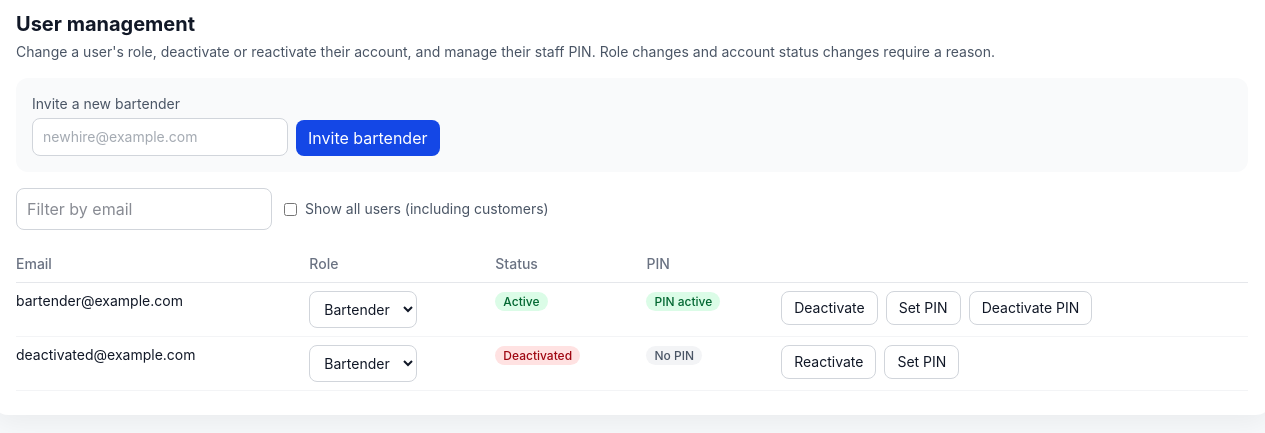
it: AdminUsers › filters the visible rows by email
Expected: the text "bartender@example.com" is shown, [16,282,309,336]
In the field with placeholder "Filter by email": (144, 209) [16,188,272,230], type "deactivated"
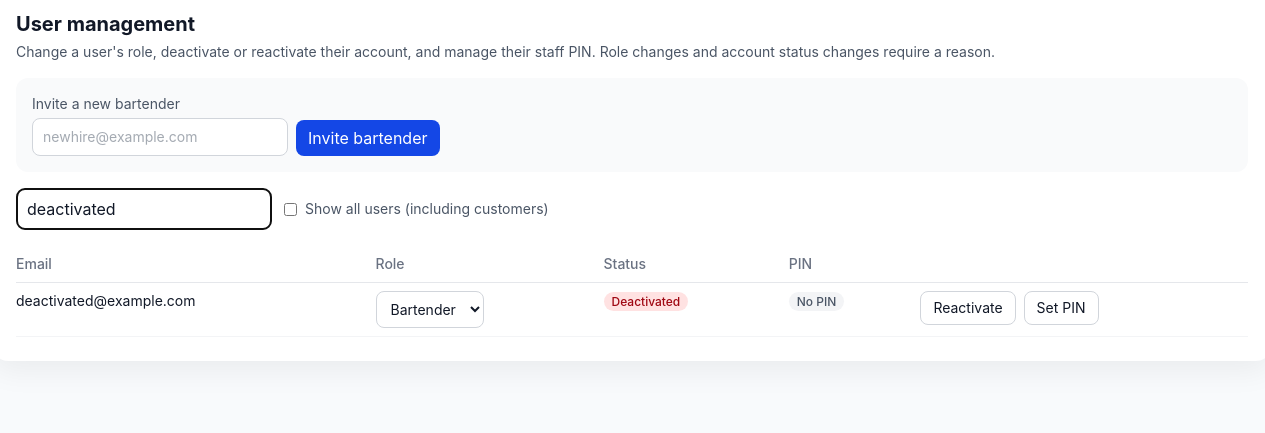
Expected: the text "deactivated@example.com" is shown, [16,282,376,336]
Expected: the text "bartender@example.com" is gone
